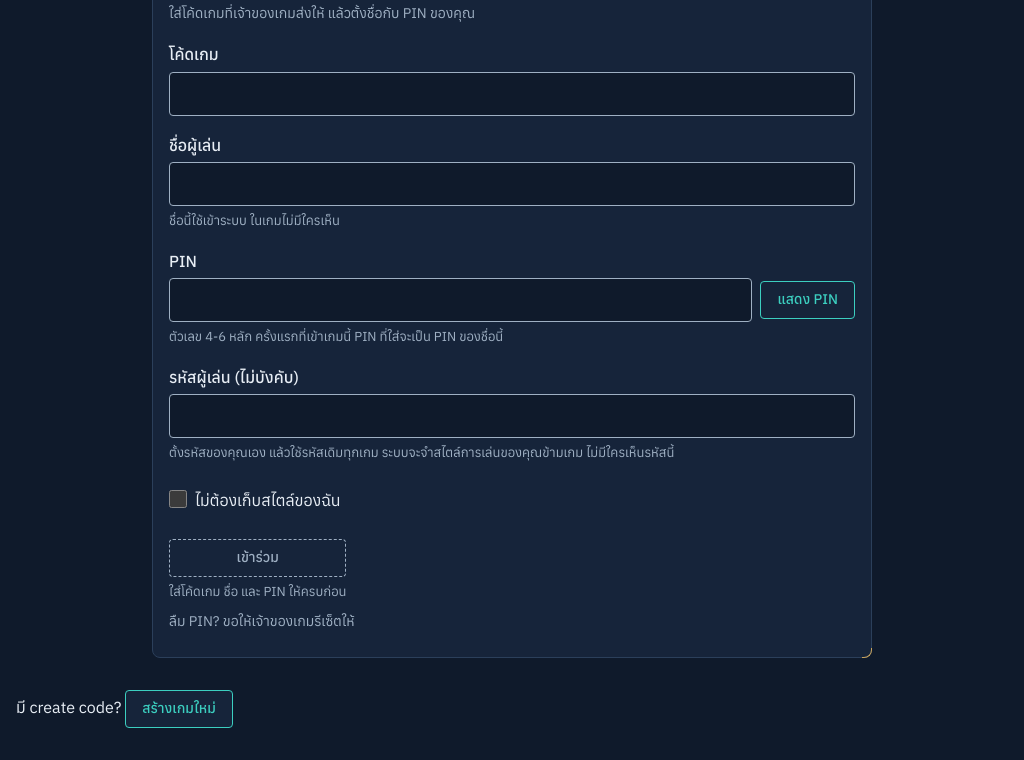
Test: Create game + Lobby (GEN-025) › C3: a wrong create code is shown at the create code field and nothing is kept
The image size is (1024, 760).
(page scrolled)
Click the button "สร้างเกมใหม่" at [179, 709], box [125,690,233,728]
(page scrolled)
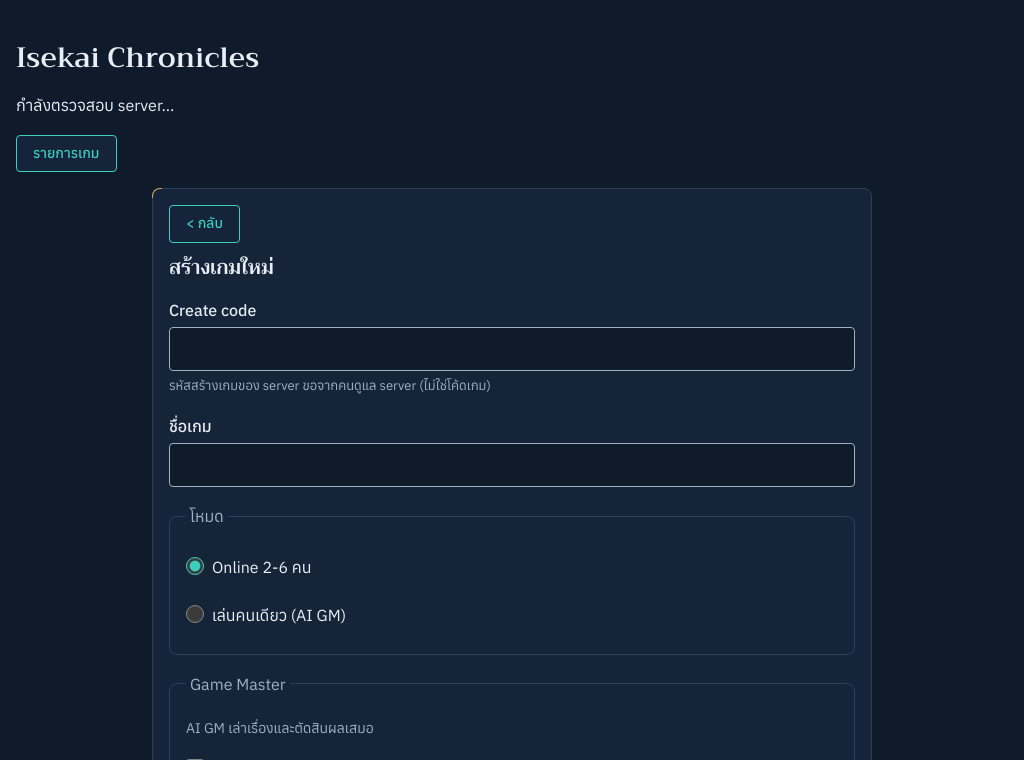
Type "เดา" into the password field labelled "Create code" at [512, 349], box [169,327,855,371]
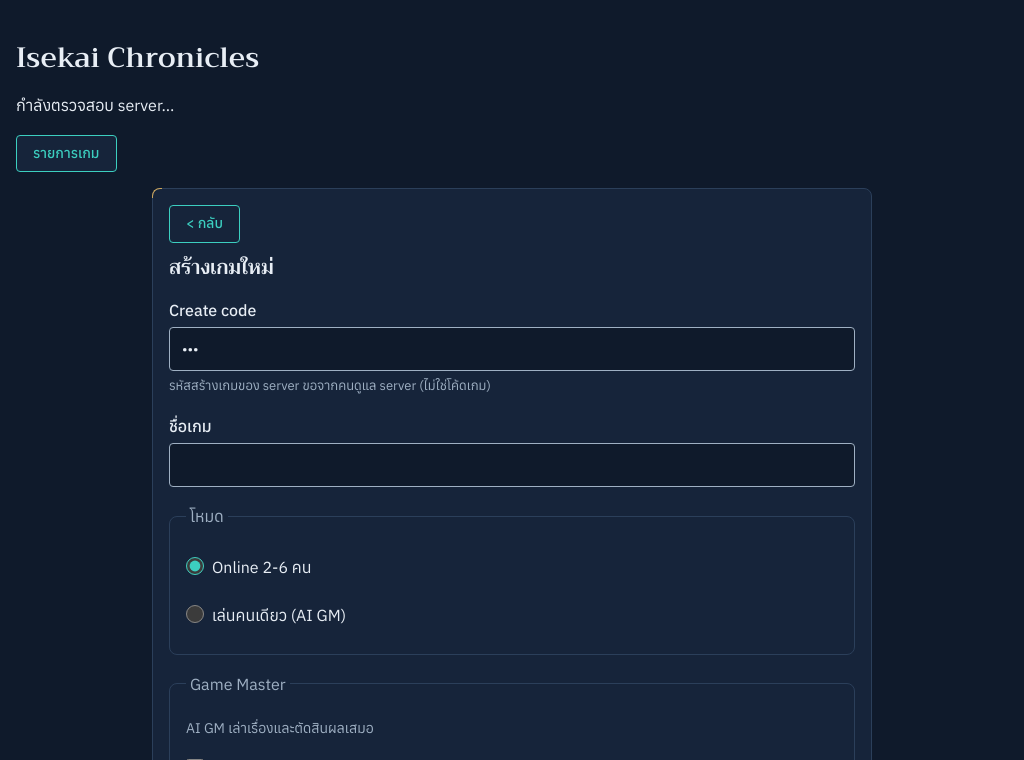
Type "เมืองก่อนอุกกาบาต" into the field labelled "ชื่อเกม" at [512, 465], box [169,443,855,487]
(page scrolled)
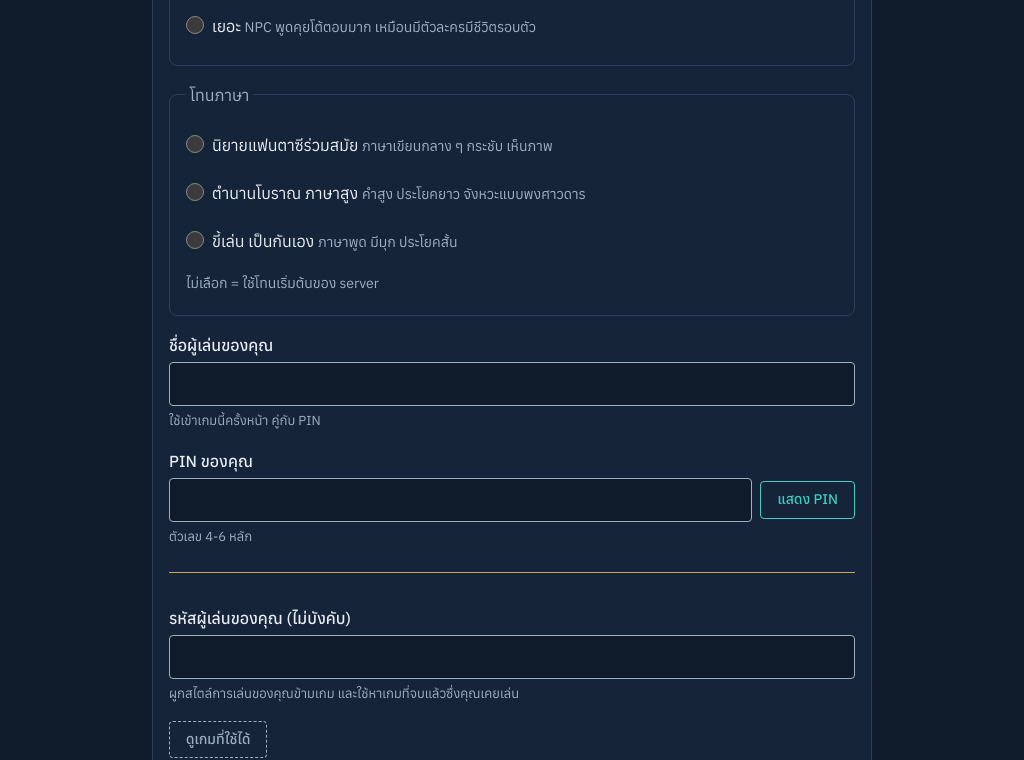
Type "นก" into the field labelled "ชื่อผู้เล่นของคุณ" at [512, 384], box [169,362,855,406]
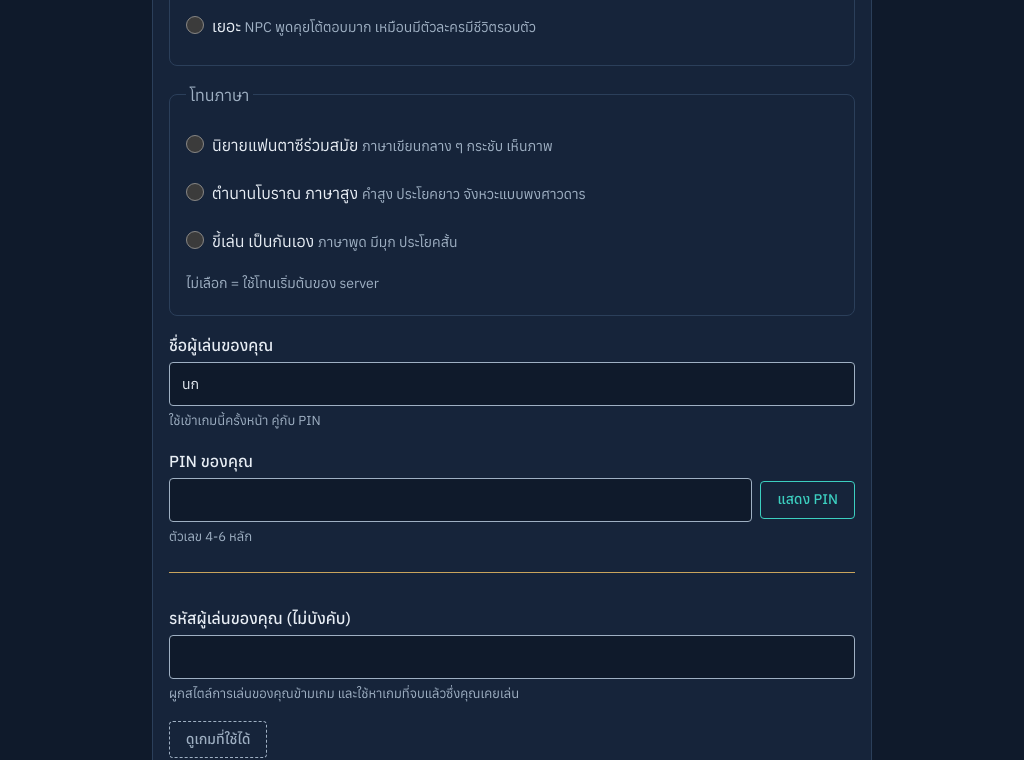
Type "1234" into the password field labelled "PIN ของคุณ" at [461, 500], box [169,478,752,522]
(page scrolled)
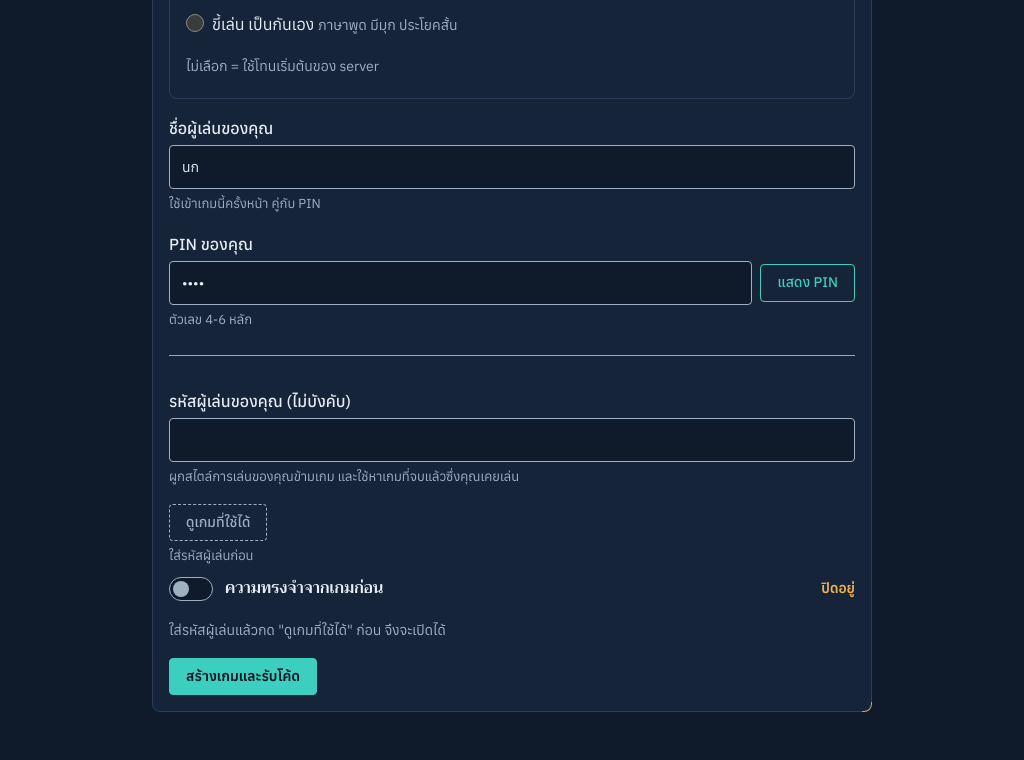
Click the button "สร้างเกมและรับโค้ด" at [243, 676], box [169,658,317,695]
(page scrolled)
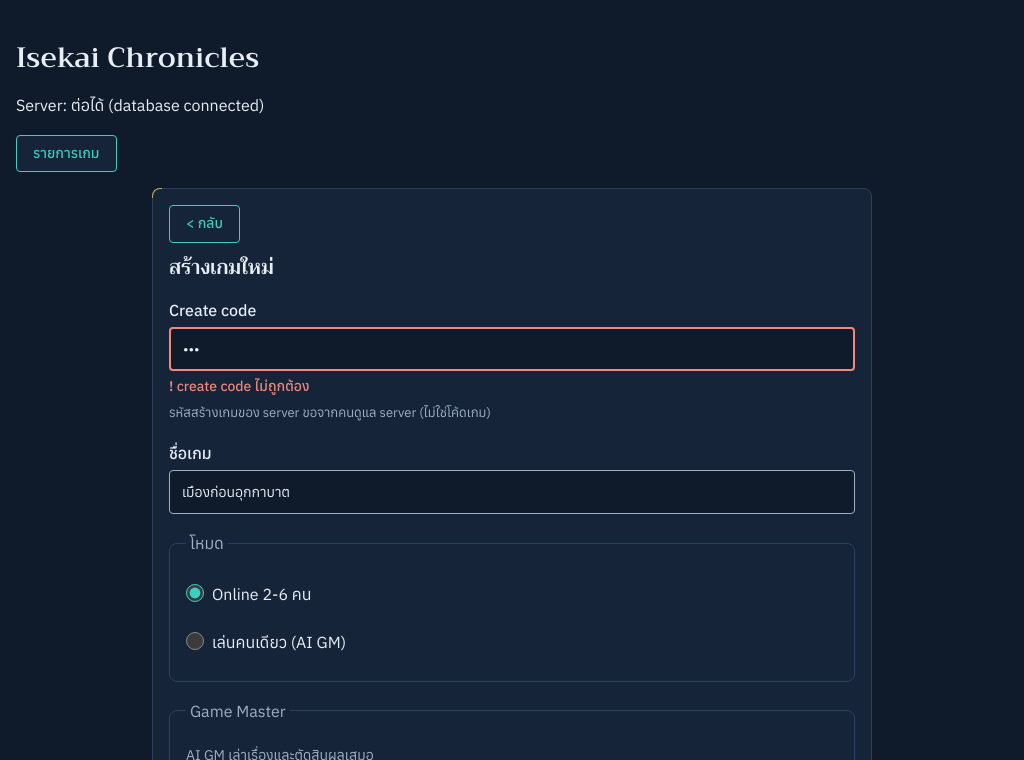
Expected: the text "create code ไม่ถูกต้อง" is shown, [177,377,310,395]
